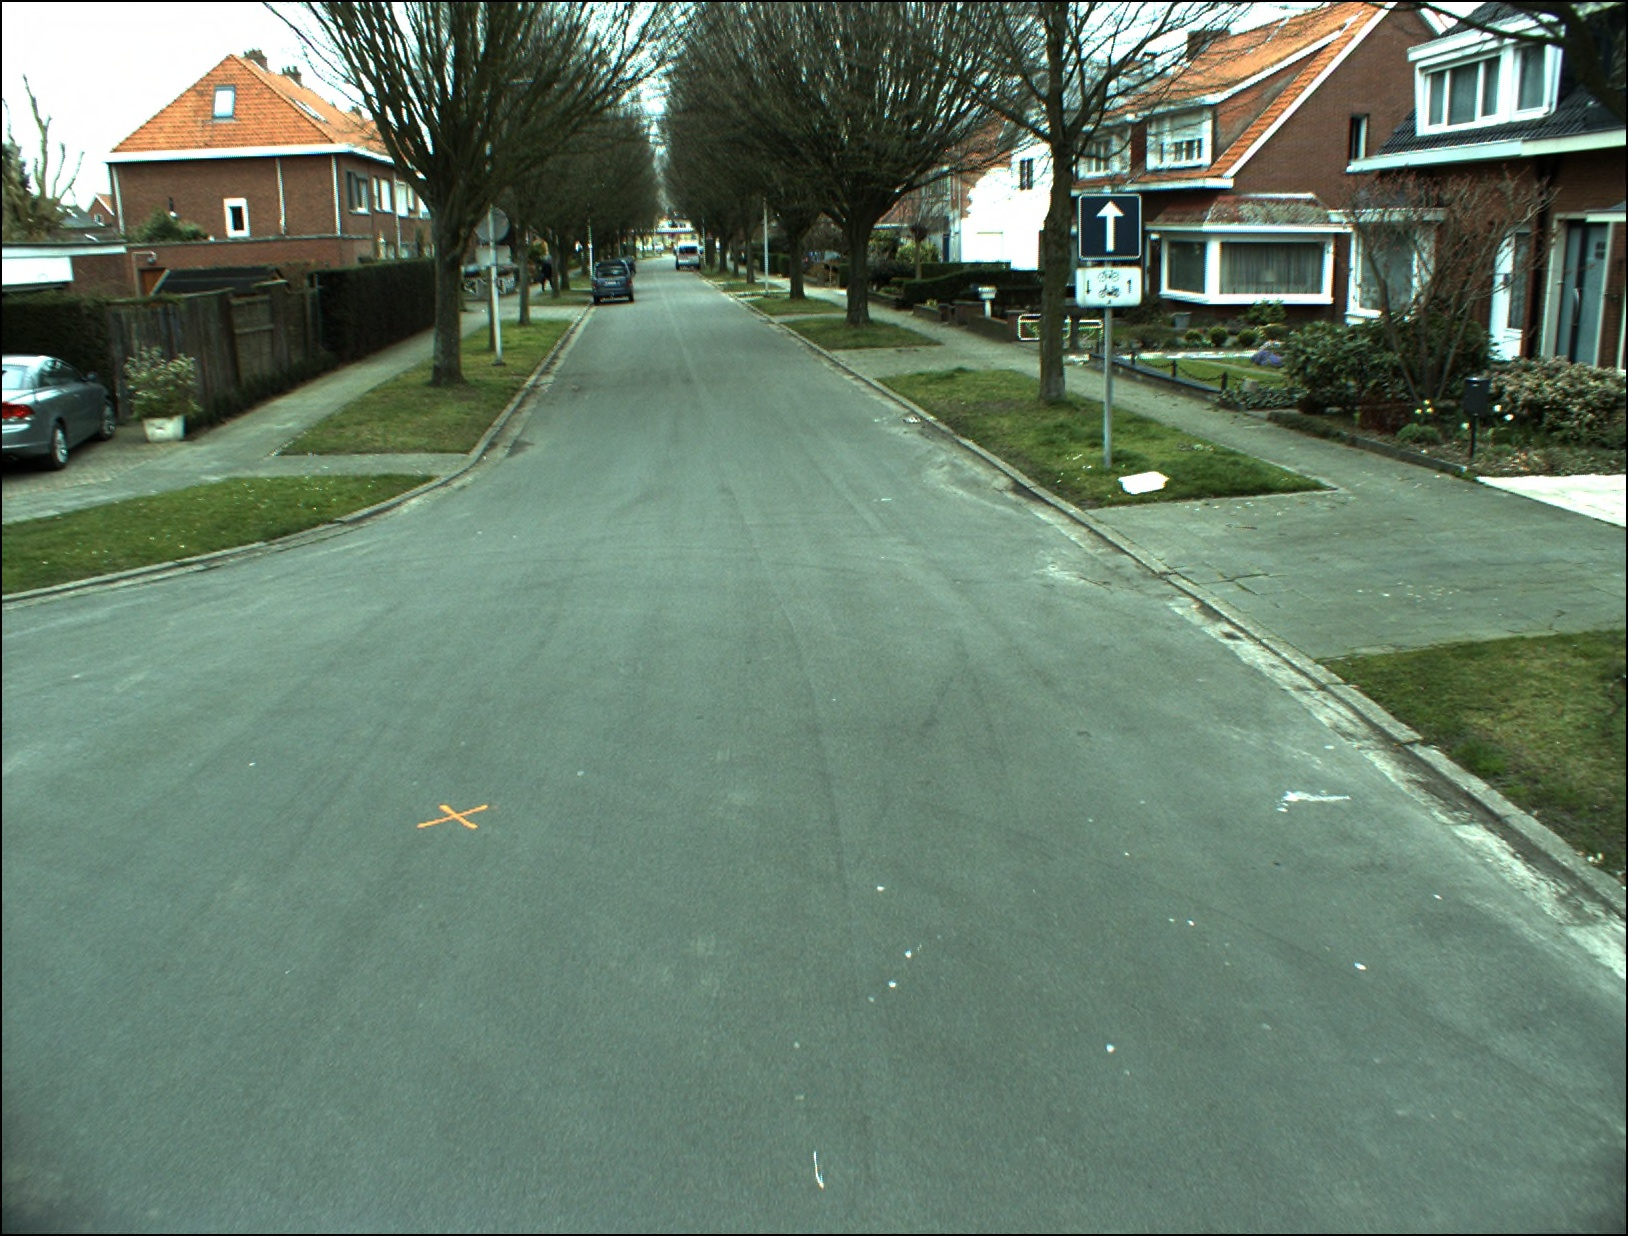oneway: (1080, 197, 1141, 256)
